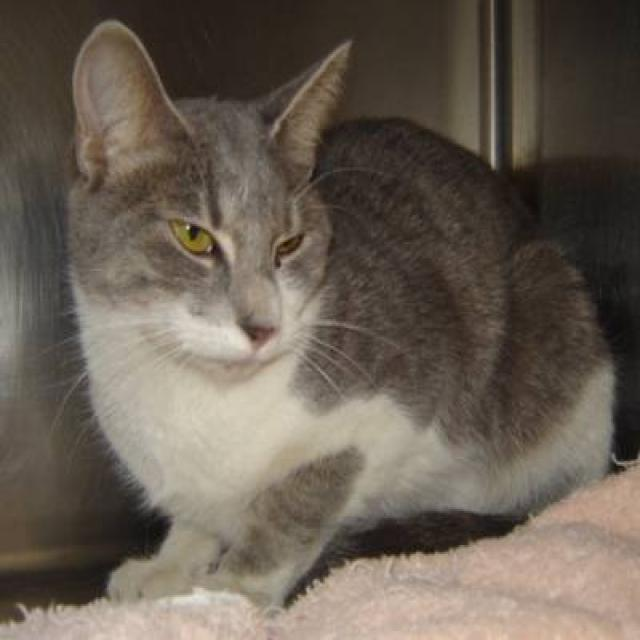cat: (55, 16, 618, 615)
